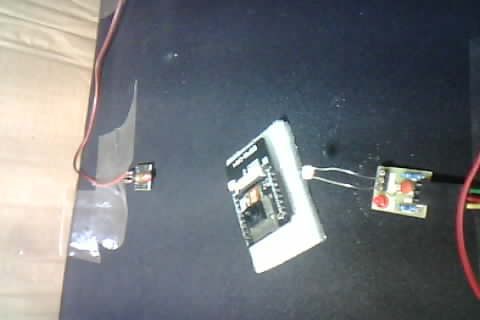esp32: (220, 119, 308, 262)
